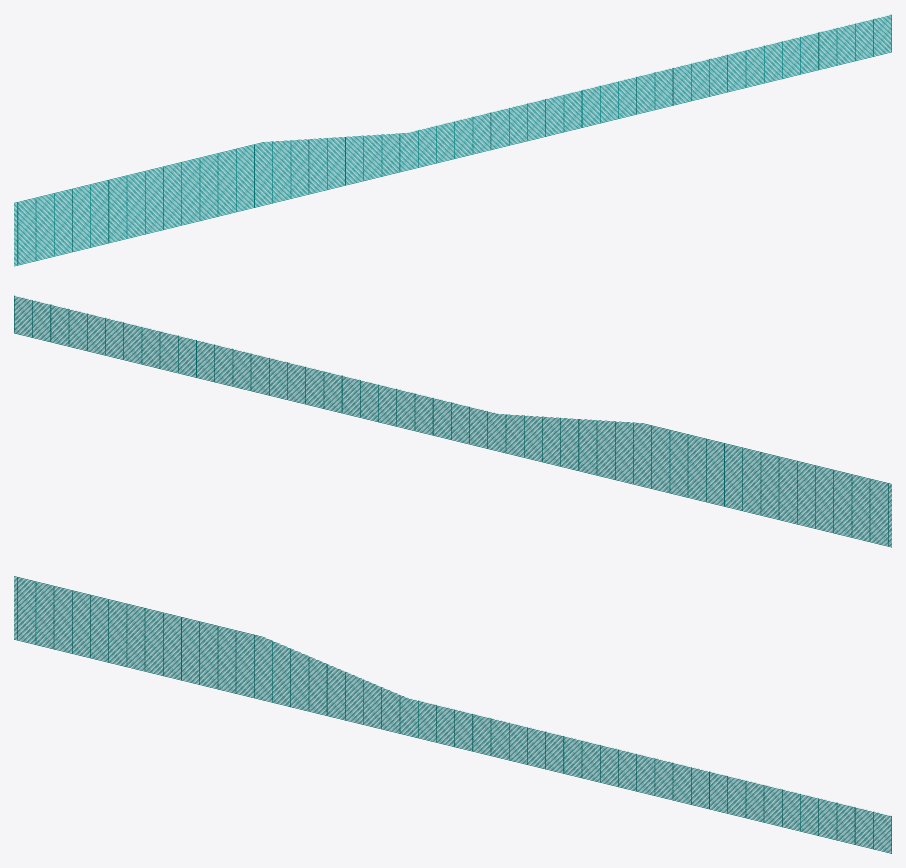
Rendered from frontoffice-ornament.obj.
3 views of the same model, one above another, from view 1: azimuth 30°, elevation 25°; view 2: azimuth 150°, elevation 25°; view 3: azimuth 330°, elevation 25° (orthographic).
Visible parts, largest first — view 1: ??-??1; view 2: ??-??1; view 3: ??-??1.
Boxes of the visible parts, <box> form: ??-??1: <box>14,14,891,266</box>; ??-??1: <box>14,295,891,547</box>; ??-??1: <box>14,576,891,853</box>.
Bounding box in the file's own units: 5.7 × 0.3937 × 0.00197.
